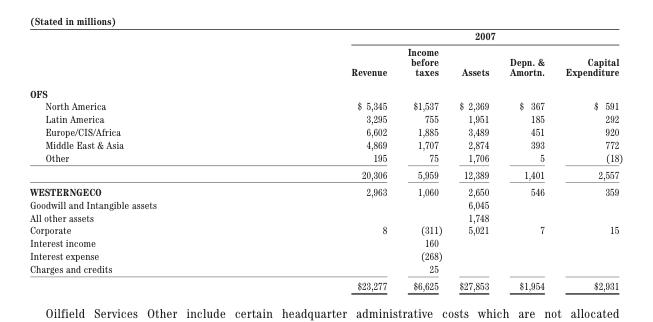table: (29, 29, 622, 291)
table column: (29, 29, 253, 291), (253, 29, 396, 291), (554, 29, 622, 291), (498, 29, 554, 291), (396, 29, 450, 291), (450, 29, 498, 291)
table column header: (29, 29, 622, 82)
table projected row header: (29, 82, 622, 99)
table row: (29, 43, 622, 82), (29, 82, 622, 99), (29, 165, 622, 182), (29, 182, 622, 197), (29, 262, 622, 277), (29, 29, 622, 43), (29, 151, 622, 165), (29, 277, 622, 291), (29, 99, 622, 112), (29, 112, 622, 125), (29, 125, 622, 138), (29, 138, 622, 151), (29, 197, 622, 210), (29, 210, 622, 223), (29, 223, 622, 236), (29, 236, 622, 249), (29, 249, 622, 262)
table spanning cell: (253, 29, 622, 43)
